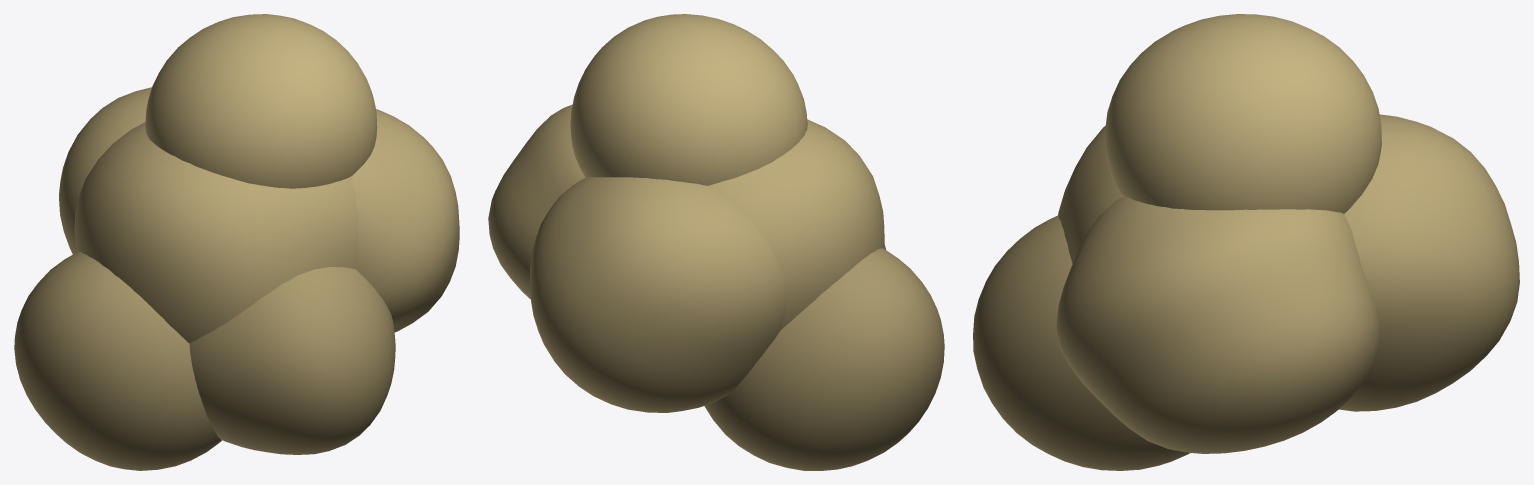
File: bush_a_autumn.glb
3 views of the same model, side by side, from view 1: azimuth 30°, elevation 25°; view 2: azimuth 150°, elevation 25°; view 3: azimuth 270°, elevation 25° (orthographic). The views are drawn at different scales.
Visible parts, largest first — view 1: crown; view 2: crown; view 3: crown.
Boxes of the visible parts, x1=… form: crown: x1=14, y1=14, x2=459, y2=470; crown: x1=488, y1=14, x2=944, y2=470; crown: x1=973, y1=14, x2=1519, y2=470.
Size of the model in its own units: 2.39 by 2.19 by 2.31.
